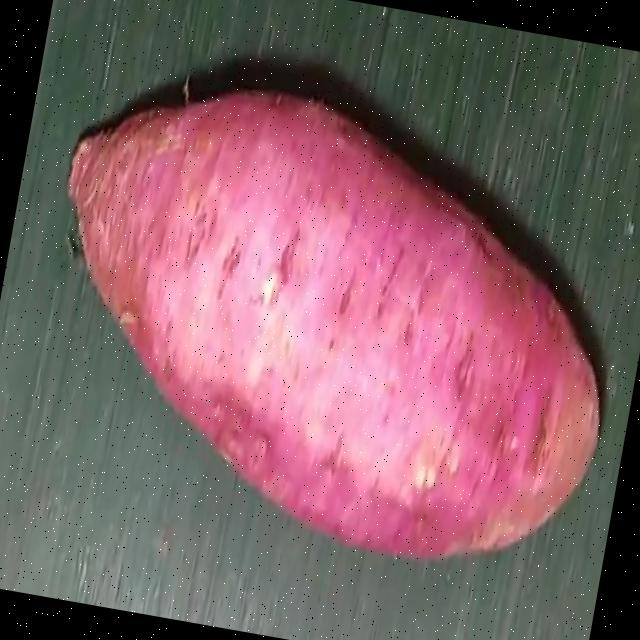Sweet Potato: (63, 85, 601, 558)
